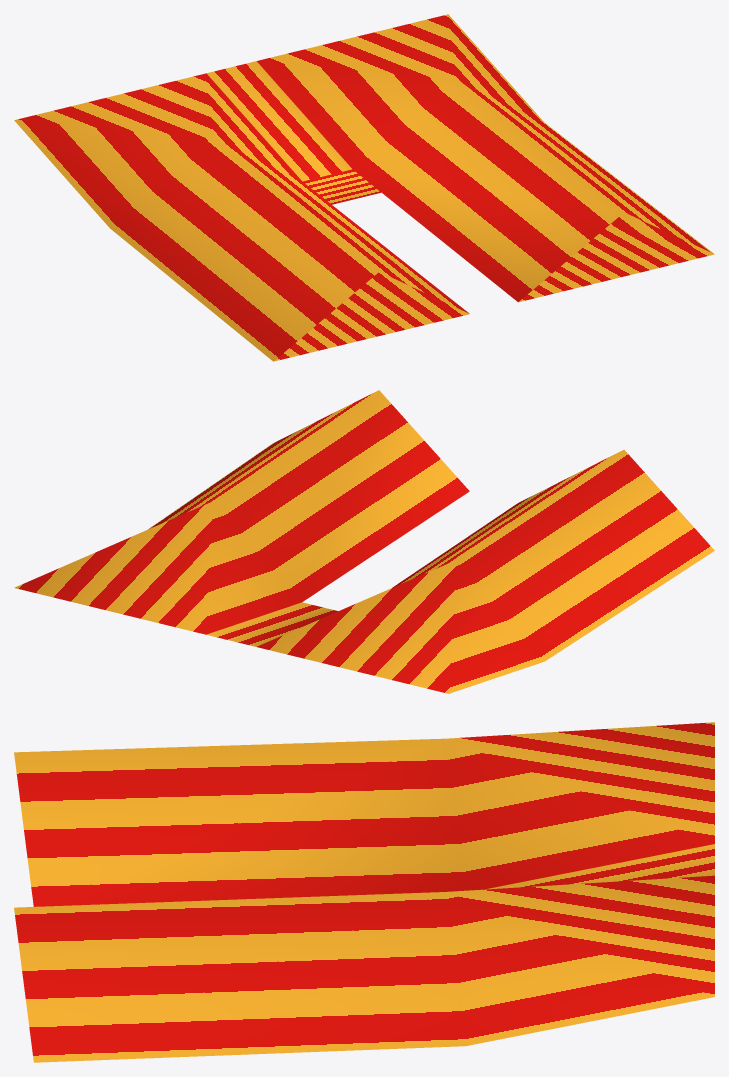
The model's file is 5491uc_cl_bot.gltf.
The picture shows the model from 3 angles, top to bottom: view 1: azimuth 30°, elevation 25°; view 2: azimuth 150°, elevation 25°; view 3: azimuth 270°, elevation 25°; orthographic projection. The views are drawn at different scales.
Parts seen in each view (by area): view 1: 5491uc_cl_bot; view 2: 5491uc_cl_bot; view 3: 5491uc_cl_bot.
Part boxes in pixels (x1,y1,x2,y2): 5491uc_cl_bot: [14, 14, 714, 361]; 5491uc_cl_bot: [14, 390, 714, 693]; 5491uc_cl_bot: [14, 722, 714, 1062].
Bounding box in the file's own units: 0.7793 × 0.1667 × 0.8264.
1 material, 1 textured.
